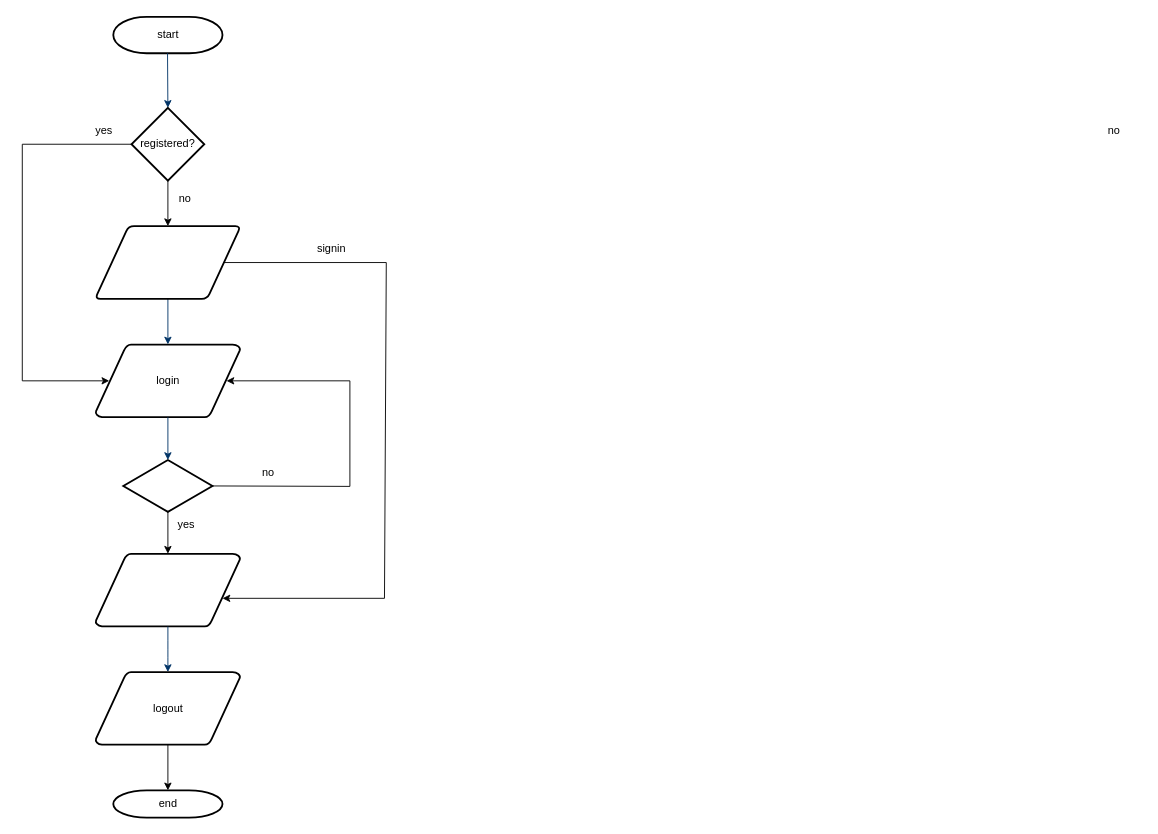
This 1158x834 diagram has some shape labels left out. Each missing label, with the centre of its shape:
correct password?: (x=167, y=485)
landing page: (x=167, y=589)
registration /signin(google, facebook): (x=167, y=262)
